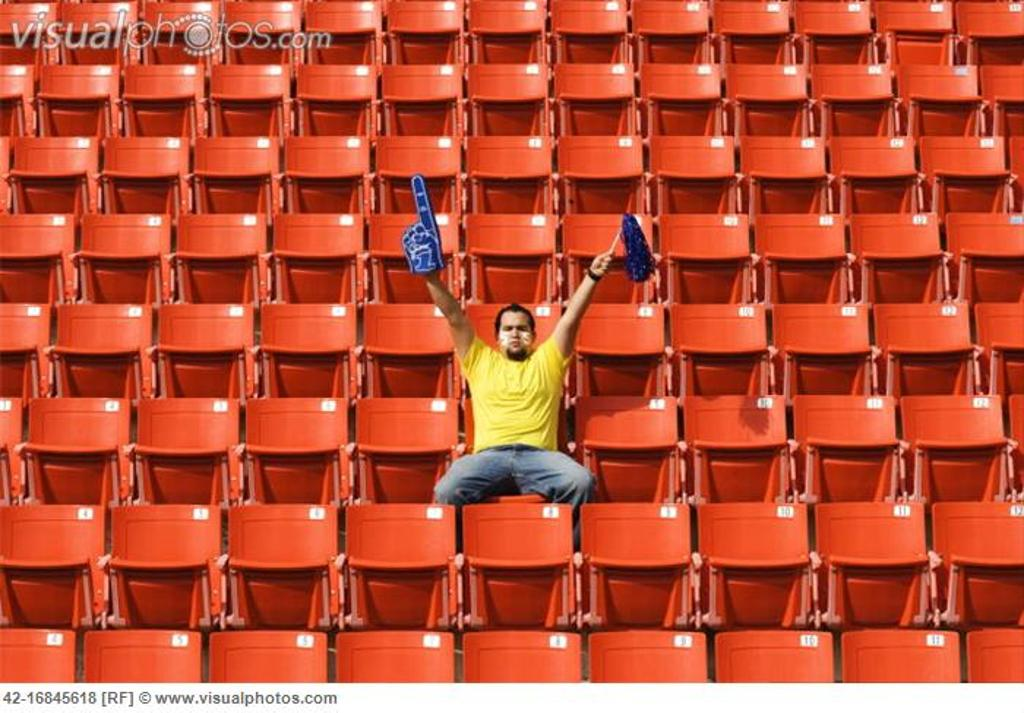face: (498, 316, 530, 355)
